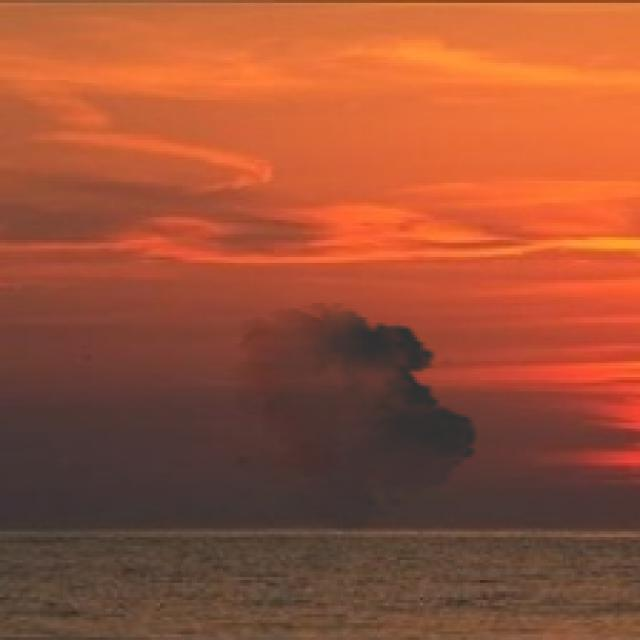smoke: (223, 303, 488, 540)
